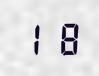eight: (49, 20, 78, 55)
one: (19, 20, 48, 56)
